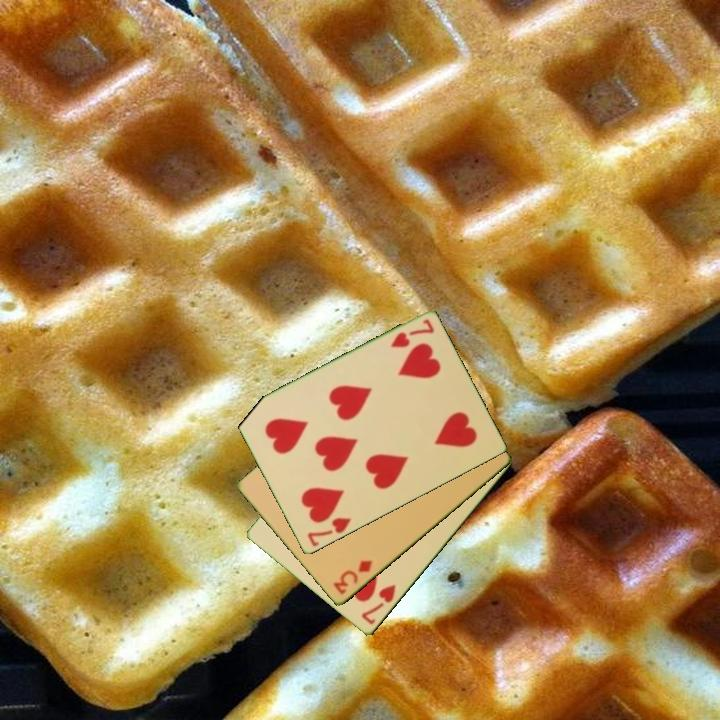3d: (329, 557, 375, 598)
7h: (358, 581, 399, 628), (304, 514, 354, 550), (387, 316, 437, 351)
